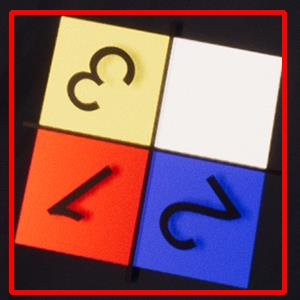nfpa: (11, 12, 284, 292)
